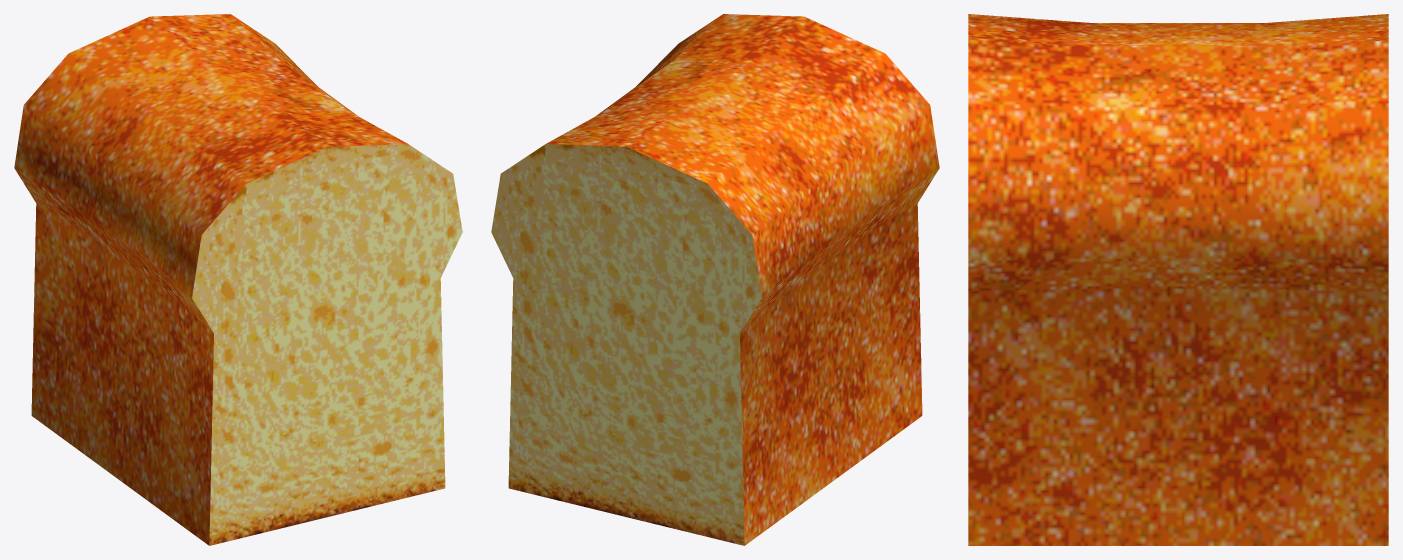
The model's file is VFX_Bread.fbx.
The picture shows the model from 3 angles, left to right: view 1: azimuth 30°, elevation 25°; view 2: azimuth 150°, elevation 25°; view 3: azimuth 270°, elevation 25°; orthographic projection. The views are drawn at different scales.
Visible parts, largest first — view 1: Bread Loaf; view 2: Bread Loaf; view 3: Bread Loaf.
Boxes of the visible parts, bbox=[...] form: Bread Loaf: bbox=[14, 14, 462, 545]; Bread Loaf: bbox=[491, 14, 939, 545]; Bread Loaf: bbox=[968, 14, 1388, 545].
Size of the model in its own units: 0.0901 by 0.1178 by 0.1025.
